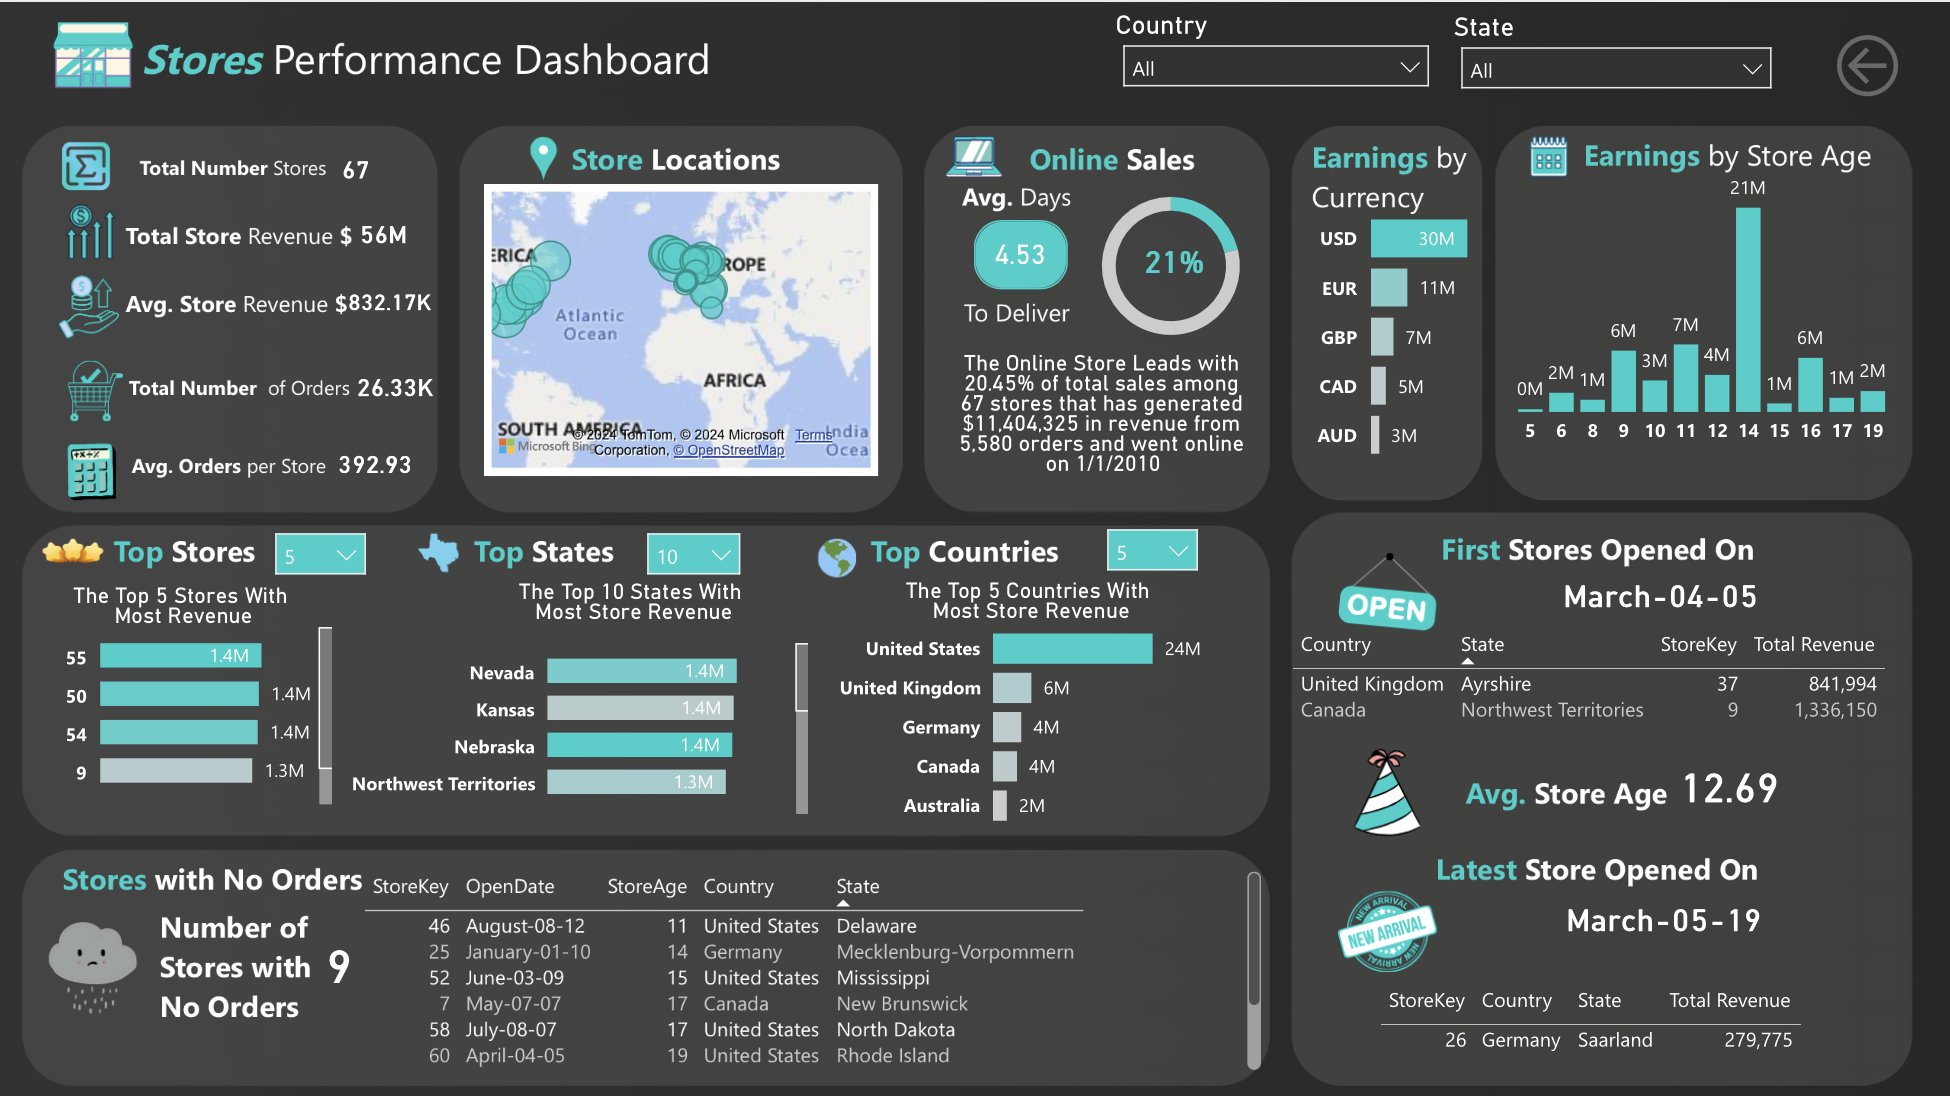

This screenshot's page, from the dashboard's own definition file:
{"tool":"powerbi","page":{"name":"Stores Performance","canvas":[1280,720],"ordinal":3},"visuals":[{"type":"card","fields":{"Values":["CountNonNull(StoreAge.StoreKey)"]},"box":[208.6,96.6,51.7,25.9],"z":0},{"type":"card","fields":{"Values":["Calculations.Avg Revenue (Store)"]},"box":[195.4,179.7,123.3,36.7],"z":1000},{"type":"card","fields":{"Values":["Calculations.Caption Online Orders"]},"box":[613.5,214.4,220.4,125.1],"z":2000},{"type":"slicer","fields":{"Values":["Dynamic Stores.Dynamic Stores"]},"box":[172.4,337.9,79.3,48.3],"z":3000},{"type":"textbox","box":[79.3,182.8,172.4,36.2],"z":4000},{"type":"textbox","box":[87.9,94.4,145.6,32.8],"z":5000},{"type":"slicer","fields":{"Values":["Dynamic Store Countries.Dynamic Store Countries"]},"box":[717.2,336.2,79.3,44.8],"z":6000},{"type":"slicer","title":"State","fields":{"Values":["dataspark stores.State"]},"box":[949.6,8.7,223.6,57.9],"z":7000},{"type":"slicer","title":"Country","fields":{"Values":["dataspark stores.Country"]},"box":[727.8,8.4,220.7,57.9],"z":8000},{"type":"textbox","box":[65.5,13.1,431,59],"z":9000},{"type":"barChart","fields":{"Category":["dataspark sales.StoreKey"],"Y":["Calculations.Dynamic stores"]},"box":[37.9,397.3,185.7,133.8],"z":10000},{"type":"textbox","box":[70.7,341.4,137.9,43.1],"z":11000},{"type":"textbox","box":[537.9,341.4,193.1,46.6],"z":12000},{"type":"textbox","box":[856.9,82.8,113.8,89.7],"z":13000},{"type":"barChart","fields":{"Category":["dataspark stores.State"],"Y":["Calculations.Dynamic store states"]},"box":[224.8,407.3,312.1,129.6],"z":14000},{"type":"slicer","fields":{"Values":["Dynamic Store States.Dynamic Store States"]},"box":[415.5,337.9,81,39.7],"z":15000},{"type":"textbox","box":[267.2,341.4,181,41.4],"z":16000},{"type":"textbox","box":[671.1,83.4,190.6,43.7],"z":17000},{"type":"map","fields":{"Size":["Calculations.Total Revenue"],"Category":["dataspark stores.State and Country"]},"box":[319,119,258.6,191.4],"z":18000},{"type":"barChart","fields":{"Category":["dataspark sales.CurrencyCode"],"Y":["Calculations.Total Revenue"]},"box":[858.6,117.2,132.8,198.3],"z":19000},{"type":"textbox","box":[100.9,586.9,120.5,98.3],"z":20000},{"type":"card","fields":{"Values":["CountNonNull(StoresNoOrders.StoreKey)"]},"box":[186,601.4,76,56.3],"z":21000},{"type":"tableEx","fields":{"Values":["StoresNoOrders.StoreKey","StoreAge.OpenDate","Sum(StoreAge.StoreAgeYears)","dataspark stores.Country","dataspark stores.State"]},"box":[234.5,564.7,598.7,140.2],"z":22000},{"type":"barChart","fields":{"Y":["Calculations.Dynamic store countries"],"Category":["dataspark stores.Country"]},"box":[544.8,391.4,260.3,162.1],"z":23000},{"type":"card","fields":{"Values":["Avg(StoreAge.StoreAge)"]},"box":[1065.1,490,141.5,47.2],"z":24000},{"type":"textbox","box":[957.7,499.2,207,62.9],"z":25000},{"type":"card","fields":{"Values":["Min(StoreAge.OpenDate)"]},"box":[957.7,364.2,269.9,49.8],"z":26000},{"type":"card","fields":{"Values":["Max(StoreAge.OpenDate)"]},"box":[948.5,576.5,292.2,49.8],"z":27000},{"type":"textbox","box":[913.4,550,272,63.5],"z":28000},{"type":"tableEx","fields":{"Values":["StoreAge.StoreKey","dataspark stores.Country","dataspark stores.State","Calculations.Total Revenue"]},"box":[901.3,640,299.7,60.8],"z":29000},{"type":"donutChart","fields":{"Y":["Calculations.NumberOfOnlineOrders","Calculations.NumberOfNonOnlineOrders"]},"box":[682.6,111.4,174.2,123.2],"z":30000},{"type":"card","fields":{"Values":["Calculations.% Online Orders"]},"box":[727.1,141.8,91.1,56.7],"z":31000},{"type":"tableEx","fields":{"Values":["dataspark stores.Country","dataspark stores.State","dataspark stores.StoreKey","Calculations.Total Revenue"]},"box":[843.9,407,409,73.5],"z":32000},{"type":"card","fields":{"Values":["Count(dataspark sales.OrderNumber)"]},"box":[221.4,234.5,77.3,38],"z":33000},{"type":"textbox","box":[65.5,238.4,170.3,51.1],"z":34000},{"type":"card","fields":{"Values":["Calculations.Total Revenue"]},"box":[212.5,133.8,80,39.3],"z":35000},{"type":"card","fields":{"Values":["Calculations.Title Top States Countries"]},"box":[581,369,191.4,51.7],"z":36000},{"type":"card","fields":{"Values":["Calculations.Title Top States Stores"]},"box":[320.7,369,189.7,53.4],"z":37000},{"type":"card","fields":{"Values":["Calculations.Title Top Stores"]},"box":[21,372.1,200.5,51.1],"z":38000},{"type":"textbox","box":[5.2,555.5,271.2,41.9],"z":39000},{"type":"textbox","box":[923.3,339.5,252.2,55.6],"z":40000},{"type":"textbox","box":[370.8,83.8,191.3,43.2],"z":41000},{"type":"textbox","box":[79.3,137.9,172.4,36.2],"z":42000},{"type":"textbox","box":[82.8,289.7,167.2,39.7],"z":43000},{"type":"clusteredColumnChart","fields":{"Y":["Calculations.Total Revenue"],"Category":["StoreAge.StoreAge"]},"box":[983.9,96.9,267.3,201.8],"z":44000},{"type":"textbox","box":[1034.5,81,203.4,60.3],"z":45000},{"type":"card","fields":{"Values":["Calculations.Avg. OrderPerStore"]},"box":[208.6,289.7,77.6,25.9],"z":46000},{"type":"card","fields":{"Values":["Avg(dataspark sales.DaysToDeliver)"]},"box":[639.3,143,61.6,45.7],"z":47000},{"type":"textbox","box":[604,111.4,127.1,123.2],"z":48000},{"type":"actionButton","box":[1199.8,12,51.9,59.9],"z":49000}]}

Visuals, with their boxes in screenshot pixels (x1, y1, x2, y2), scaled from the page's 1280x720 canvas onto the 1950x1096 screenshot:
card - CountNonNull(StoreAge.StoreKey): (left=318, top=147, right=397, bottom=186)
card - Calculations.Avg Revenue (Store): (left=298, top=274, right=486, bottom=329)
card - Calculations.Caption Online Orders: (left=935, top=326, right=1270, bottom=517)
slicer - Dynamic Stores.Dynamic Stores: (left=263, top=514, right=383, bottom=588)
textbox: (left=121, top=278, right=383, bottom=333)
textbox: (left=134, top=144, right=356, bottom=194)
slicer - Dynamic Store Countries.Dynamic Store Countries: (left=1093, top=512, right=1213, bottom=580)
"State" slicer: (left=1447, top=13, right=1787, bottom=101)
"Country" slicer: (left=1109, top=13, right=1445, bottom=101)
textbox: (left=100, top=20, right=756, bottom=110)
barChart - dataspark sales.StoreKey x Calculations.Dynamic stores: (left=58, top=605, right=341, bottom=808)
textbox: (left=108, top=520, right=318, bottom=585)
textbox: (left=819, top=520, right=1114, bottom=591)
textbox: (left=1305, top=126, right=1479, bottom=263)
barChart - dataspark stores.State x Calculations.Dynamic store states: (left=342, top=620, right=818, bottom=817)
slicer - Dynamic Store States.Dynamic Store States: (left=633, top=514, right=756, bottom=575)
textbox: (left=407, top=520, right=683, bottom=583)
textbox: (left=1022, top=127, right=1313, bottom=193)
map - Calculations.Total Revenue x dataspark stores.State and Country: (left=486, top=181, right=880, bottom=472)
barChart - dataspark sales.CurrencyCode x Calculations.Total Revenue: (left=1308, top=178, right=1510, bottom=480)
textbox: (left=154, top=893, right=337, bottom=1043)
card - CountNonNull(StoresNoOrders.StoreKey): (left=283, top=915, right=399, bottom=1001)
tableEx - StoresNoOrders.StoreKey x StoreAge.OpenDate: (left=357, top=860, right=1269, bottom=1073)
barChart - Calculations.Dynamic store countries x dataspark stores.Country: (left=830, top=596, right=1227, bottom=843)
card - Avg(StoreAge.StoreAge): (left=1623, top=746, right=1838, bottom=818)
textbox: (left=1459, top=760, right=1774, bottom=856)
card - Min(StoreAge.OpenDate): (left=1459, top=554, right=1870, bottom=630)
card - Max(StoreAge.OpenDate): (left=1445, top=878, right=1890, bottom=953)
textbox: (left=1392, top=837, right=1806, bottom=934)
tableEx - StoreAge.StoreKey x dataspark stores.Country: (left=1373, top=974, right=1830, bottom=1067)
donutChart - Calculations.NumberOfOnlineOrders x Calculations.NumberOfNonOnlineOrders: (left=1040, top=170, right=1305, bottom=357)
card - Calculations.% Online Orders: (left=1108, top=216, right=1246, bottom=302)
tableEx - dataspark stores.Country x dataspark stores.State: (left=1286, top=620, right=1909, bottom=731)
card - Count(dataspark sales.OrderNumber): (left=337, top=357, right=455, bottom=415)
textbox: (left=100, top=363, right=359, bottom=441)
card - Calculations.Total Revenue: (left=324, top=204, right=446, bottom=263)
card - Calculations.Title Top States Countries: (left=885, top=562, right=1177, bottom=640)
card - Calculations.Title Top States Stores: (left=489, top=562, right=778, bottom=643)
card - Calculations.Title Top Stores: (left=32, top=566, right=337, bottom=644)
textbox: (left=8, top=846, right=421, bottom=909)
textbox: (left=1407, top=517, right=1791, bottom=601)
textbox: (left=565, top=128, right=856, bottom=193)
textbox: (left=121, top=210, right=383, bottom=265)
textbox: (left=126, top=441, right=381, bottom=501)
clusteredColumnChart - Calculations.Total Revenue x StoreAge.StoreAge: (left=1499, top=148, right=1906, bottom=455)
textbox: (left=1576, top=123, right=1886, bottom=215)
card - Calculations.Avg. OrderPerStore: (left=318, top=441, right=436, bottom=480)
card - Avg(dataspark sales.DaysToDeliver): (left=974, top=218, right=1068, bottom=287)
textbox: (left=920, top=170, right=1114, bottom=357)
actionButton: (left=1828, top=18, right=1907, bottom=109)
